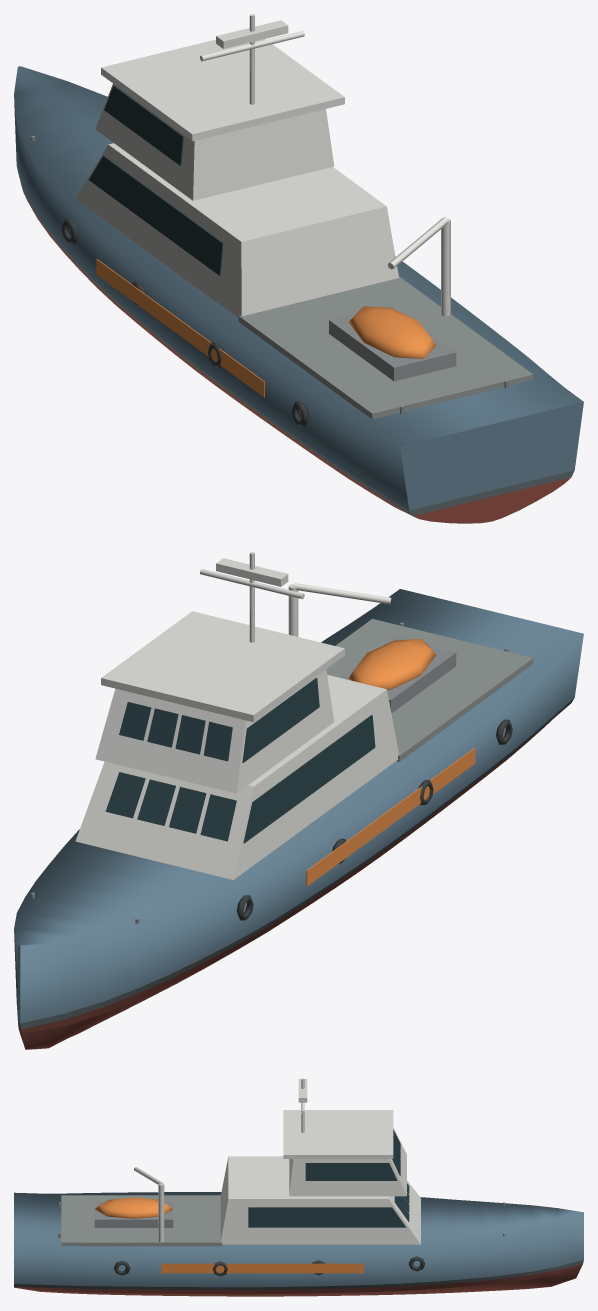
The model's file is patrol-low.glb.
The picture shows the model from 3 angles, top to bottom: view 1: azimuth 30°, elevation 25°; view 2: azimuth 150°, elevation 25°; view 3: azimuth 270°, elevation 25°; orthographic projection. The views are drawn at different scales.
Parts seen in each view (by area): view 1: white, hull, deck, window, orange, bottom, metal, stripe, rubber; view 2: hull, white, window, deck, orange, bottom, stripe, metal, rubber; view 3: hull, white, deck, window, bottom, orange, stripe, metal, rubber.
Part boxes in pixels (<box>): white: <box>75,14,450,318</box>; hull: <box>14,66,583,510</box>; deck: <box>238,276,533,419</box>; window: <box>89,86,223,275</box>; orange: <box>96,259,436,397</box>; bottom: <box>24,194,570,523</box>; metal: <box>31,136,508,413</box>; stripe: <box>18,172,574,516</box>; rubber: <box>62,218,308,426</box>; hull: <box>14,589,583,1023</box>; white: <box>75,552,398,879</box>; window: <box>105,678,375,843</box>; deck: <box>326,619,533,761</box>; orange: <box>306,639,475,886</box>; bottom: <box>19,721,550,1049</box>; stripe: <box>18,698,574,1029</box>; metal: <box>31,622,508,923</box>; rubber: <box>236,719,512,920</box>; hull: <box>14,1192,583,1287</box>; white: <box>134,1078,420,1244</box>; deck: <box>61,1195,222,1246</box>; window: <box>248,1129,409,1227</box>; bottom: <box>14,1264,582,1296</box>; orange: <box>95,1197,363,1273</box>; stripe: <box>14,1260,583,1289</box>; metal: <box>58,1201,505,1237</box>; rubber: <box>113,1256,425,1276</box>.
Bounding box in the file's own units: 7.63 × 11.96 × 29.
